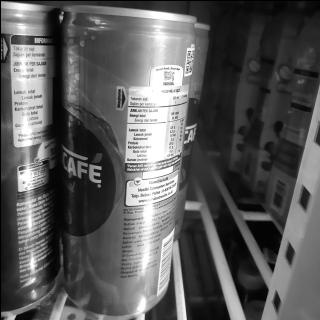alumunium_can: (46, 0, 214, 317)
